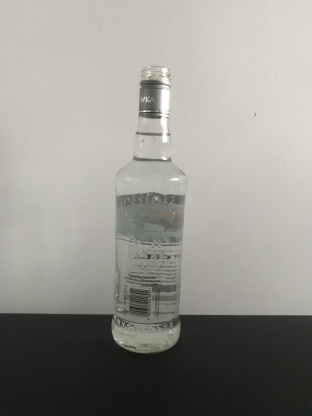nakretka: (136, 63, 173, 119)
